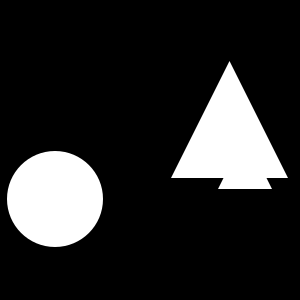rectangle: (7, 151, 103, 247)
triangle: (171, 61, 288, 178), (218, 135, 272, 189)
